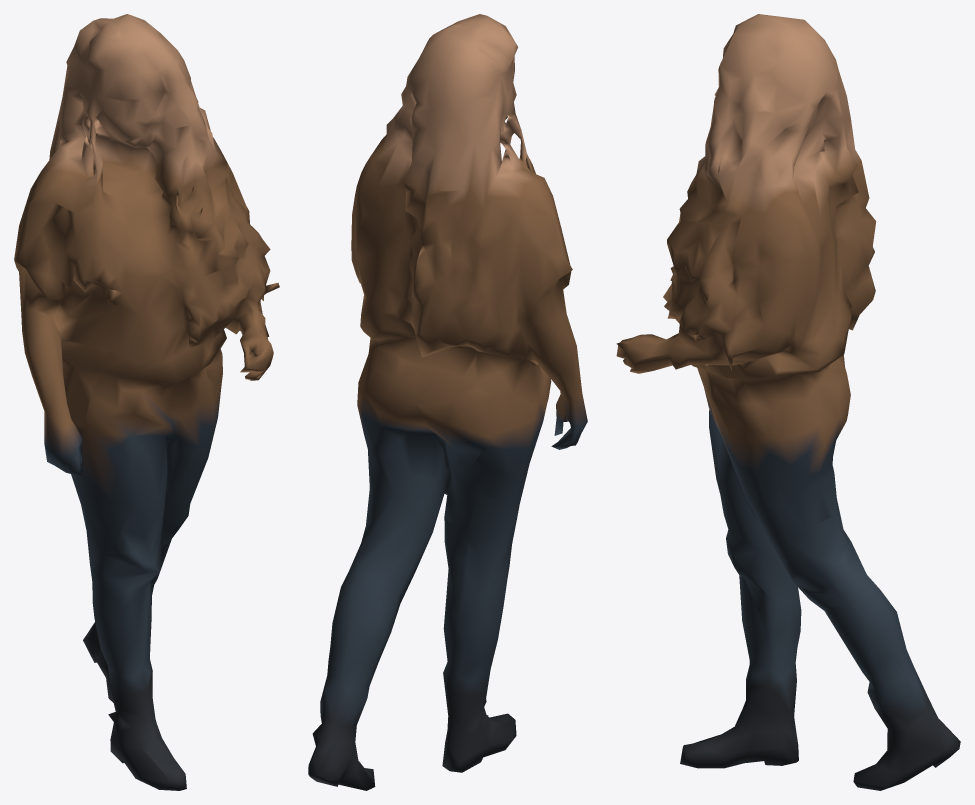
File: people_typ12_stand.glb
3 views of the same model, side by side, from view 1: azimuth 30°, elevation 25°; view 2: azimuth 150°, elevation 25°; view 3: azimuth 270°, elevation 25° (orthographic).
Visible parts, largest first — view 1: people_typ12_stand-mesh; view 2: people_typ12_stand-mesh; view 3: people_typ12_stand-mesh.
Boxes of the visible parts, box(x1,y1,x2,y2) form: people_typ12_stand-mesh: box(14, 14, 279, 790); people_typ12_stand-mesh: box(308, 14, 587, 790); people_typ12_stand-mesh: box(616, 14, 960, 790).
Bounding box in the file's own units: 0.5601 × 1.76 × 0.7458.
